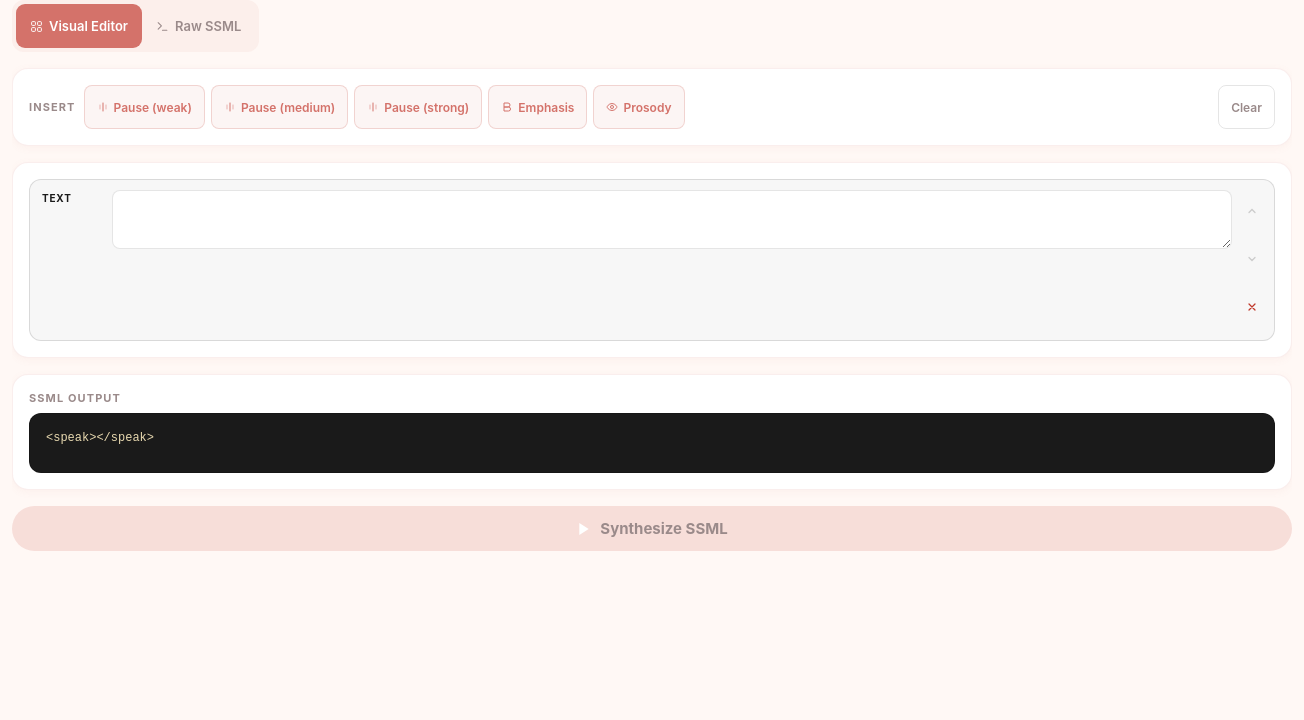
Test: synthesis › shows error message when synthesis fails
This screenshot has width=1304, height=720.
Type "Hello." into the text box named "Text content" at (672, 219), box [112,190,1232,249]
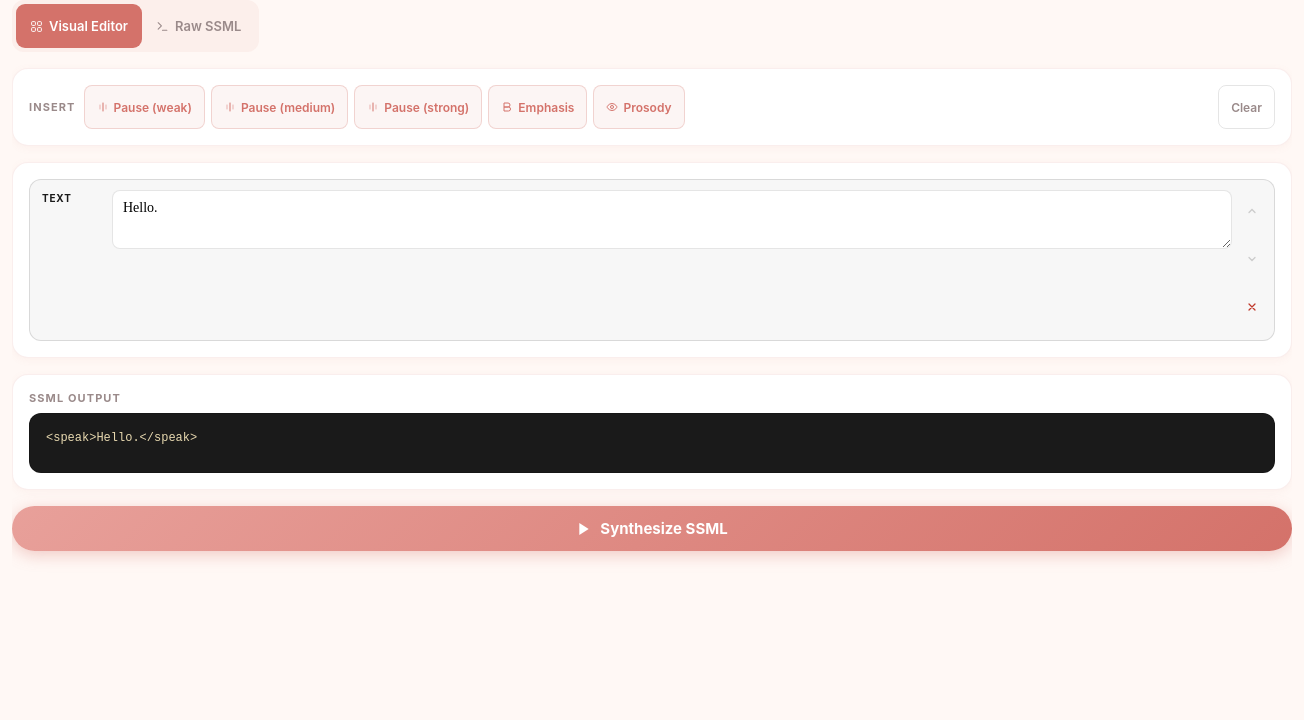
Click the button "Synthesize SSML" at (652, 528), box [12,506,1292,551]
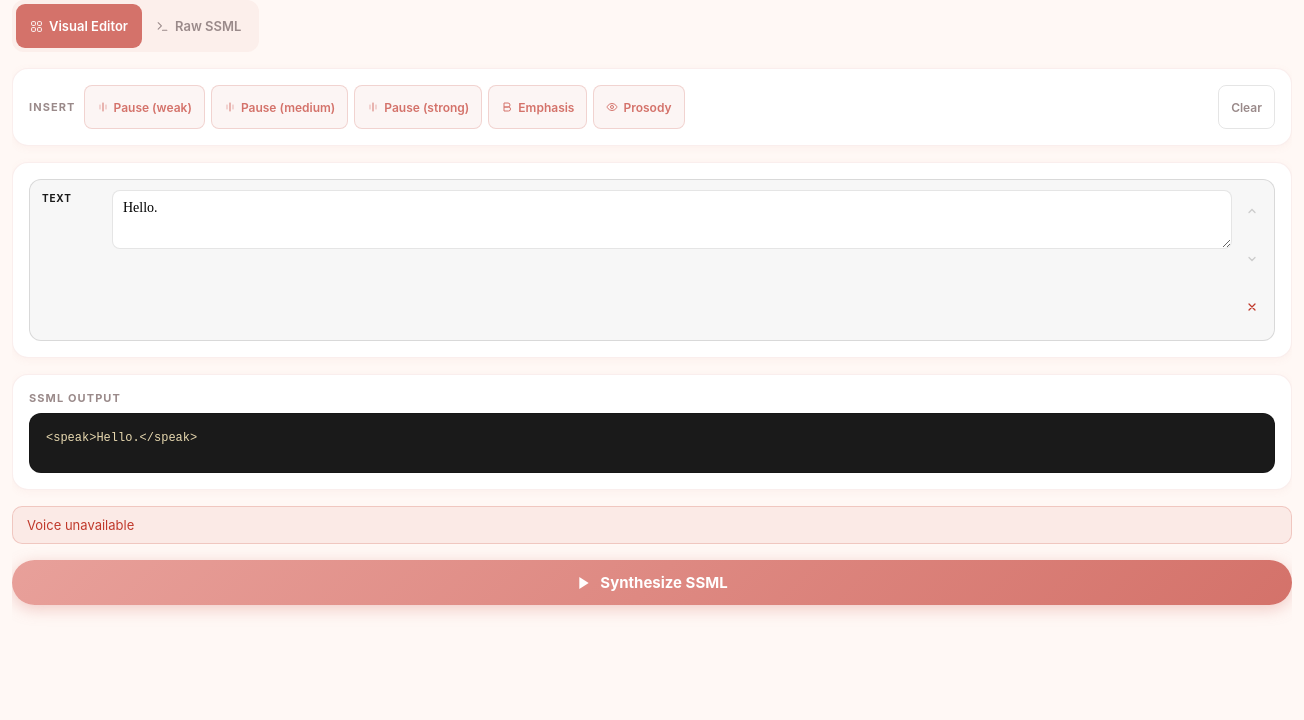
Now the message "Voice unavailable" is shown, box [12,506,1292,544]
Now the message reads "Voice unavailable", box [27,517,134,533]
